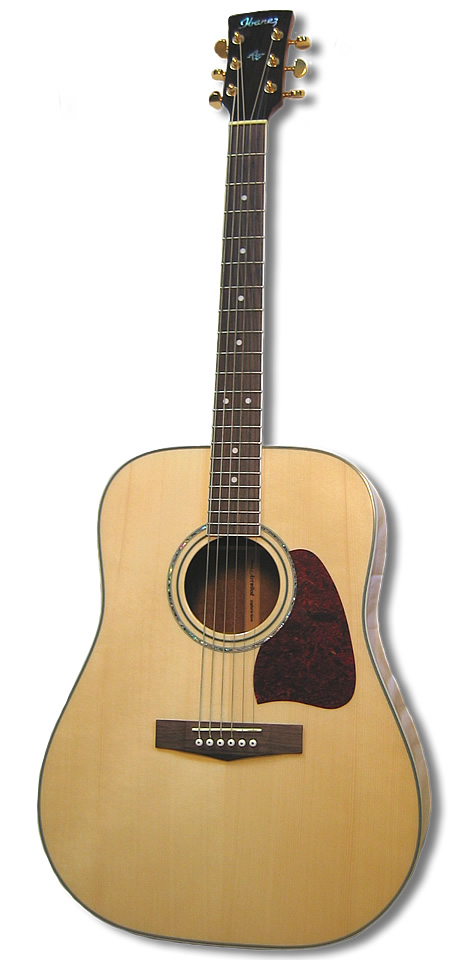guitar: (36, 9, 443, 952)
